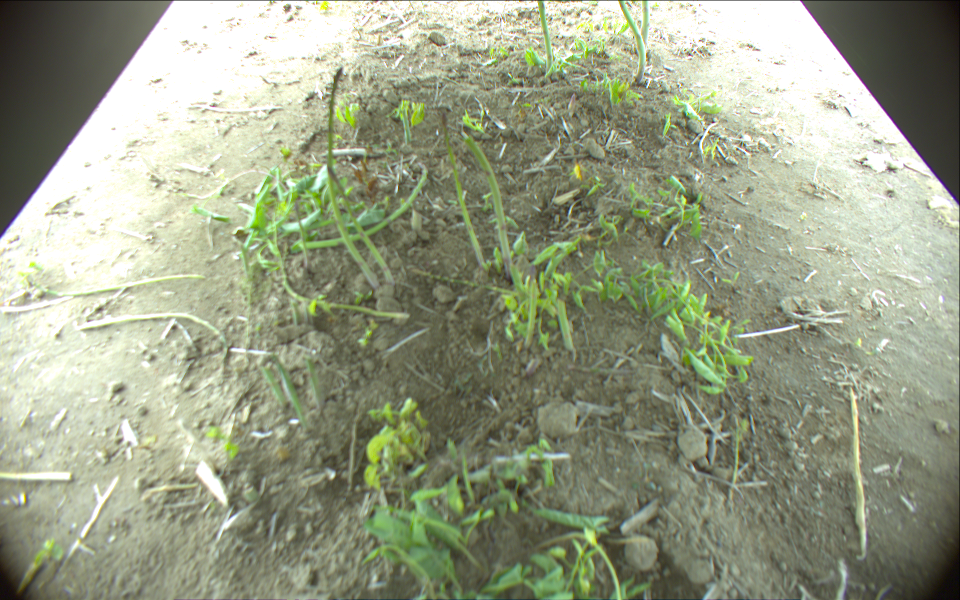aspa: (326, 66, 380, 287), (291, 165, 427, 251), (269, 238, 409, 319), (326, 165, 394, 282), (463, 135, 512, 279), (442, 111, 486, 266), (76, 314, 229, 347), (33, 273, 206, 297), (849, 388, 868, 555), (271, 356, 312, 429), (619, 1, 646, 85), (536, 1, 554, 72), (259, 364, 288, 408), (295, 201, 311, 270), (305, 359, 325, 412), (557, 298, 575, 353), (400, 107, 413, 142), (639, 1, 646, 45)
